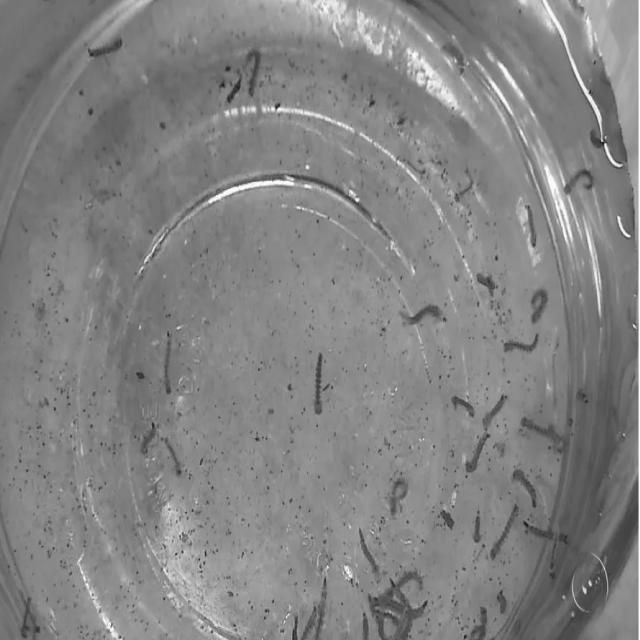larvas: (490, 505, 518, 558), (524, 520, 569, 544), (521, 414, 559, 442), (512, 468, 536, 507), (403, 304, 447, 324), (469, 433, 490, 472), (359, 528, 377, 572), (244, 49, 259, 98), (564, 170, 593, 195), (484, 395, 508, 425), (503, 331, 538, 351), (88, 38, 123, 58), (162, 436, 180, 474), (468, 607, 488, 638), (314, 352, 324, 413), (164, 334, 174, 393), (531, 291, 548, 323), (300, 607, 316, 640), (140, 424, 156, 456), (390, 482, 406, 514), (452, 394, 475, 416), (390, 581, 410, 606), (454, 175, 472, 201), (318, 580, 326, 638), (395, 611, 411, 639), (527, 203, 537, 247), (20, 598, 32, 634), (374, 608, 388, 638), (549, 539, 558, 582), (226, 78, 242, 102), (402, 570, 424, 586), (414, 597, 428, 619), (498, 590, 508, 614), (363, 611, 371, 637), (475, 512, 481, 544), (292, 612, 298, 640)
